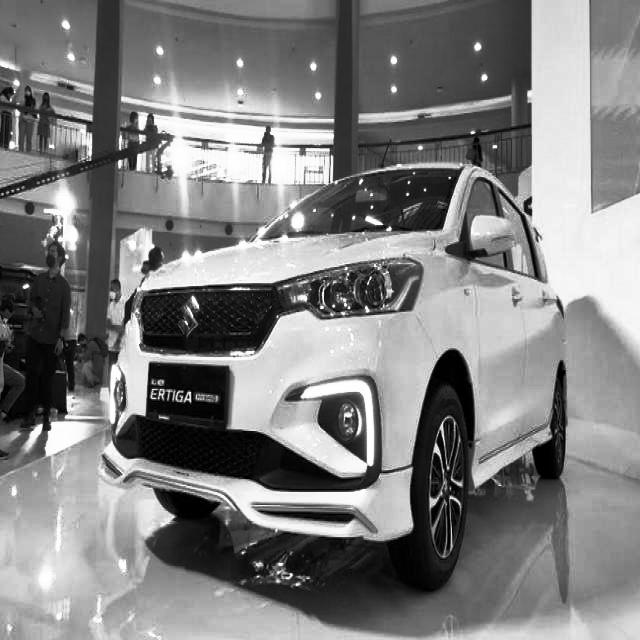Car: (99, 125, 572, 569)
